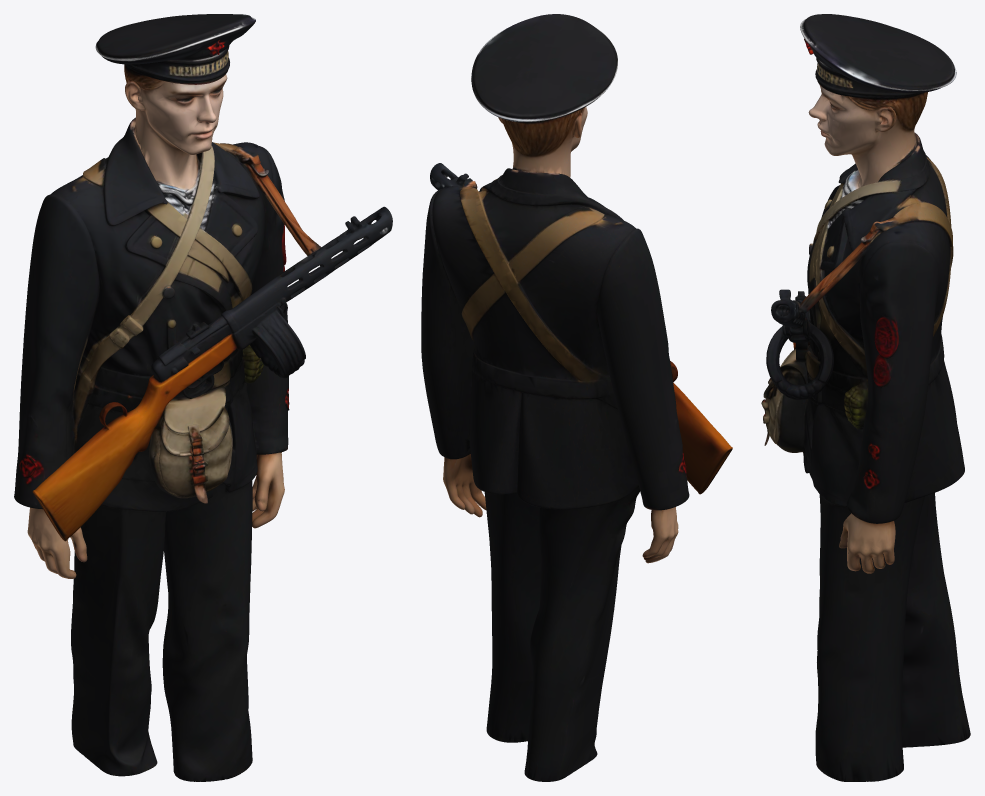
File: 050-forma-boyca-krasnoy-armii.glb
3 views of the same model, side by side, from view 1: azimuth 30°, elevation 25°; view 2: azimuth 150°, elevation 25°; view 3: azimuth 270°, elevation 25° (orthographic). The views are drawn at different scales.
Parts seen in each view (by area): view 1: node_0; view 2: node_0; view 3: node_0.
Boxes of the visible parts, box(x1,y1,x2,y2) form: node_0: box(14, 14, 392, 781); node_0: box(421, 14, 732, 781); node_0: box(761, 14, 970, 781).
Size of the model in its own units: 0.5424 by 1.16 by 0.3011.
Materials: 1 (1 with a texture image).
